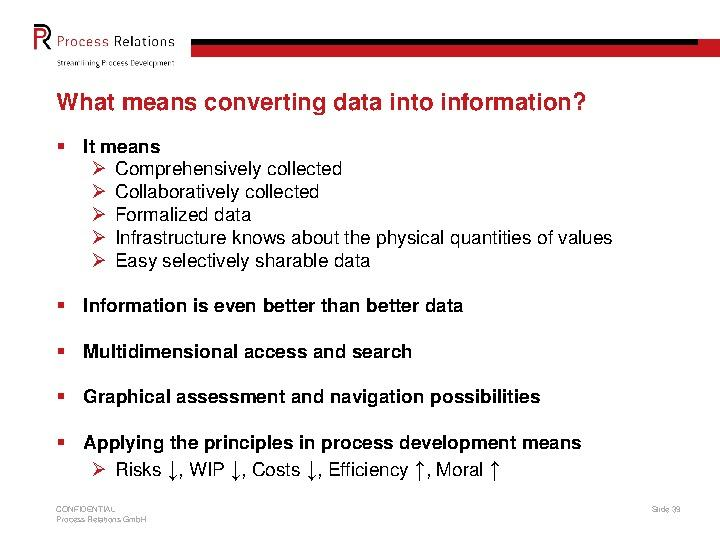paragraph: (46, 130, 660, 491)
subtitle: (51, 82, 610, 123)
title: (27, 13, 185, 56)
